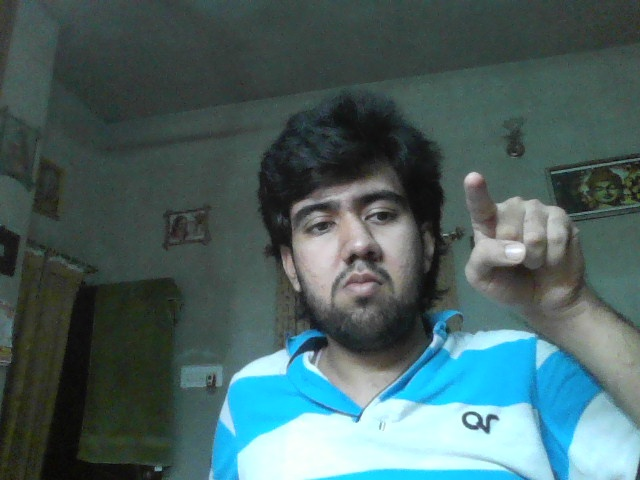You: (464, 172, 582, 309)
